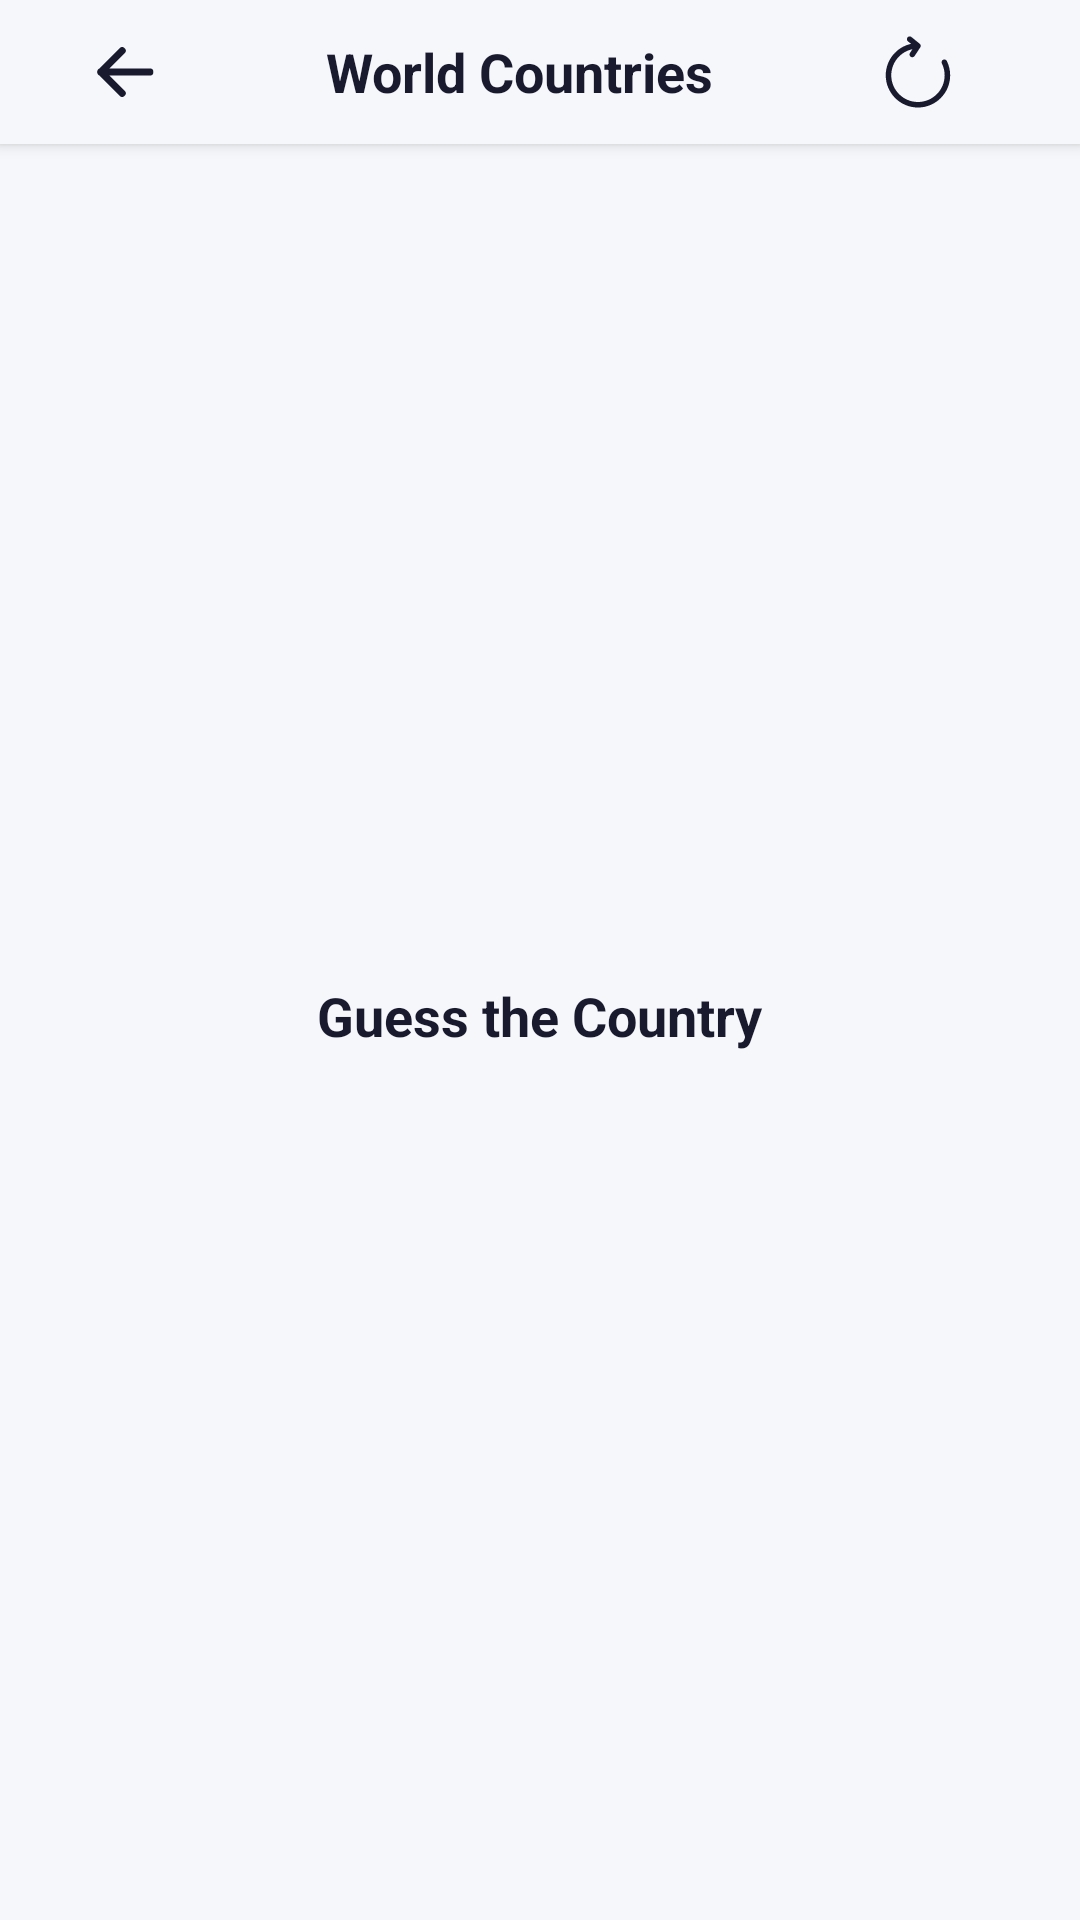

Point at icon controls on the screen. Image size 1080 × 1920, points as (x,y).
Back: (125,72)
Refresh: (918,72)
